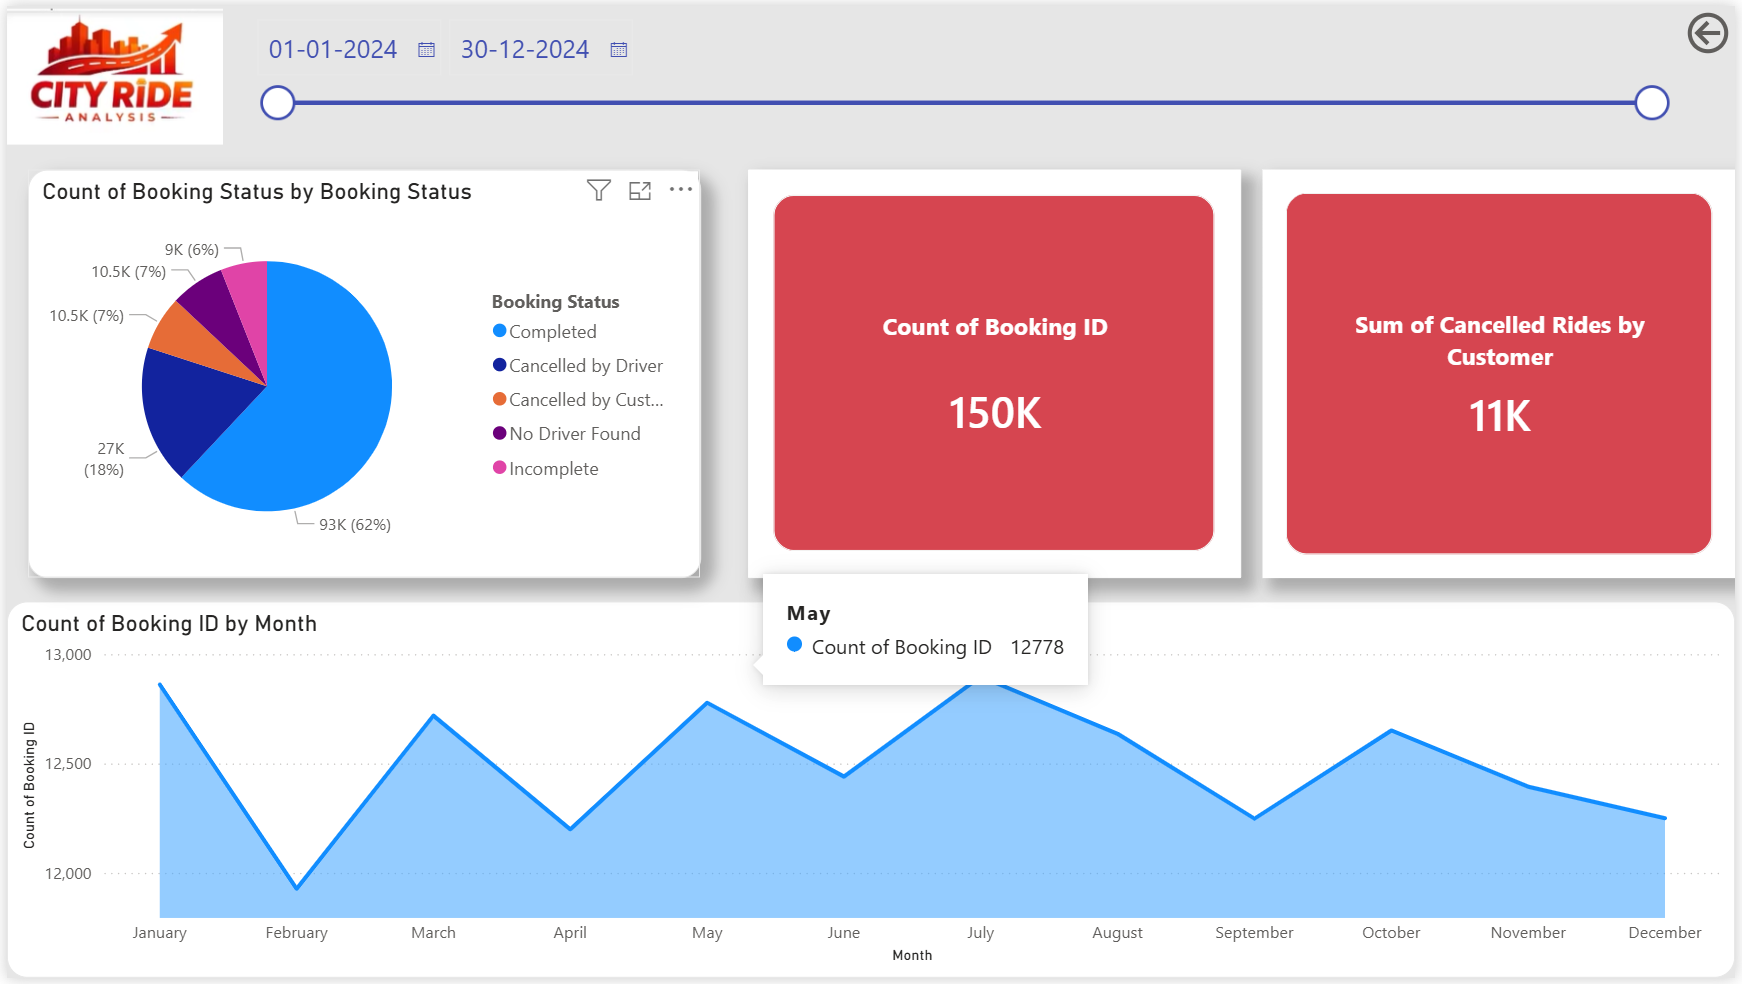

What the dashboard file says about the page in this screenshot:
{"tool":"powerbi","page":{"name":"Overall","canvas":[1280,720],"ordinal":1},"visuals":[{"type":"lineChart","fields":{"Category":["rideBookings.Date.Variation.Date Hierarchy.Month"],"Y":["CountNonNull(rideBookings.Booking ID)"]},"box":[0,441.2,1280,278.8],"z":0},{"type":"pieChart","fields":{"Category":["rideBookings.Booking Status"],"Y":["CountNonNull(rideBookings.Booking Status)"]},"box":[15,121.2,498.8,302.5],"z":1000},{"type":"cardVisual","fields":{"Data":["CountNonNull(rideBookings.Booking ID)"]},"box":[548.8,121.2,365,302.5],"z":2000},{"type":"slicer","fields":{"Values":["rideBookings.Date"]},"box":[172.5,0,1067.5,105],"z":3000},{"type":"actionButton","box":[1240,0,40,40],"z":4000},{"type":"image","box":[0,0,160,105],"z":5000},{"type":"cardVisual","fields":{"Data":["Sum(rideBookings.Cancelled Rides by Customer)"]},"box":[930,121.2,350,302.5],"z":6000}]}

Visuals, with their boxes in screenshot pixels (x1, y1, x2, y2), scaled from the page's 1280x720 canvas onto the 1742x984 screenshot:
lineChart - rideBookings.Date.Variation.Date Hierarchy.Month x CountNonNull(rideBookings.Booking ID): region(0, 603, 1741, 983)
pieChart - rideBookings.Booking Status x CountNonNull(rideBookings.Booking Status): region(20, 166, 699, 579)
cardVisual - CountNonNull(rideBookings.Booking ID): region(747, 166, 1244, 579)
slicer - rideBookings.Date: region(235, 0, 1688, 144)
actionButton: region(1688, 0, 1741, 55)
image: region(0, 0, 218, 144)
cardVisual - Sum(rideBookings.Cancelled Rides by Customer): region(1266, 166, 1741, 579)
